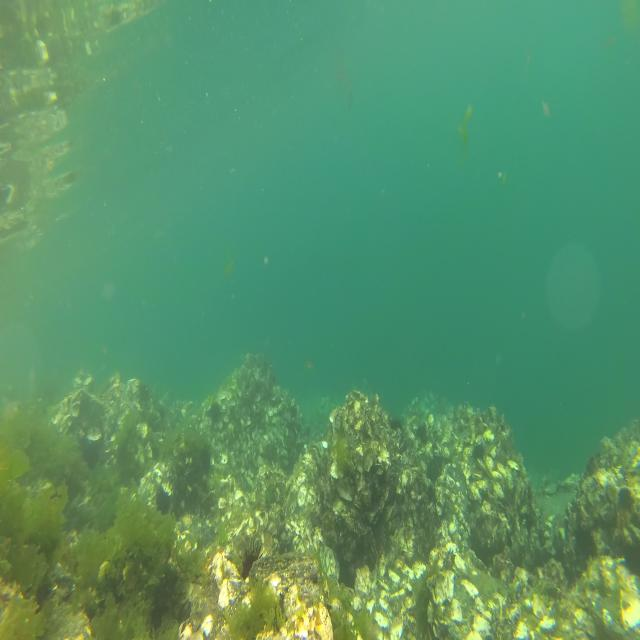echinus: (238, 537, 268, 581), (154, 486, 174, 517), (209, 399, 222, 426), (471, 441, 485, 463), (388, 416, 404, 433), (414, 423, 427, 443)
